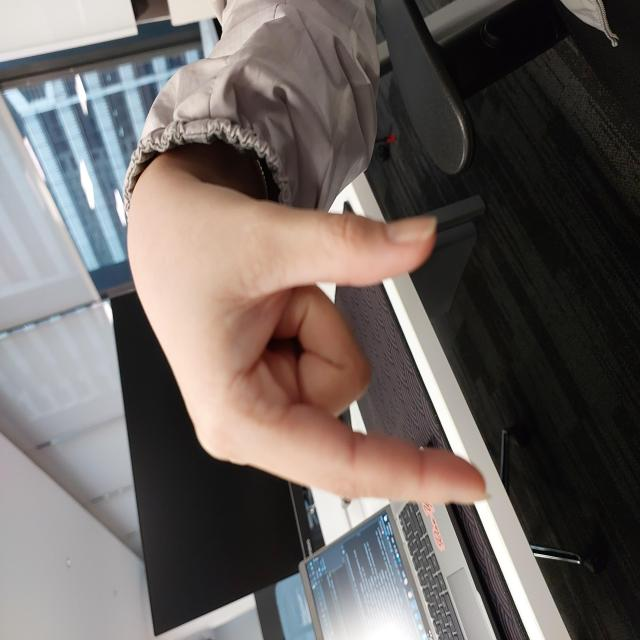Q: (136, 159, 454, 488)
